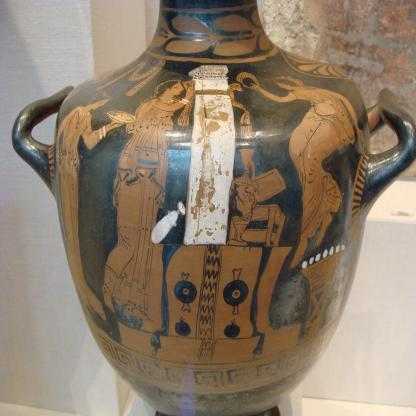vase: (11, 0, 415, 415)
